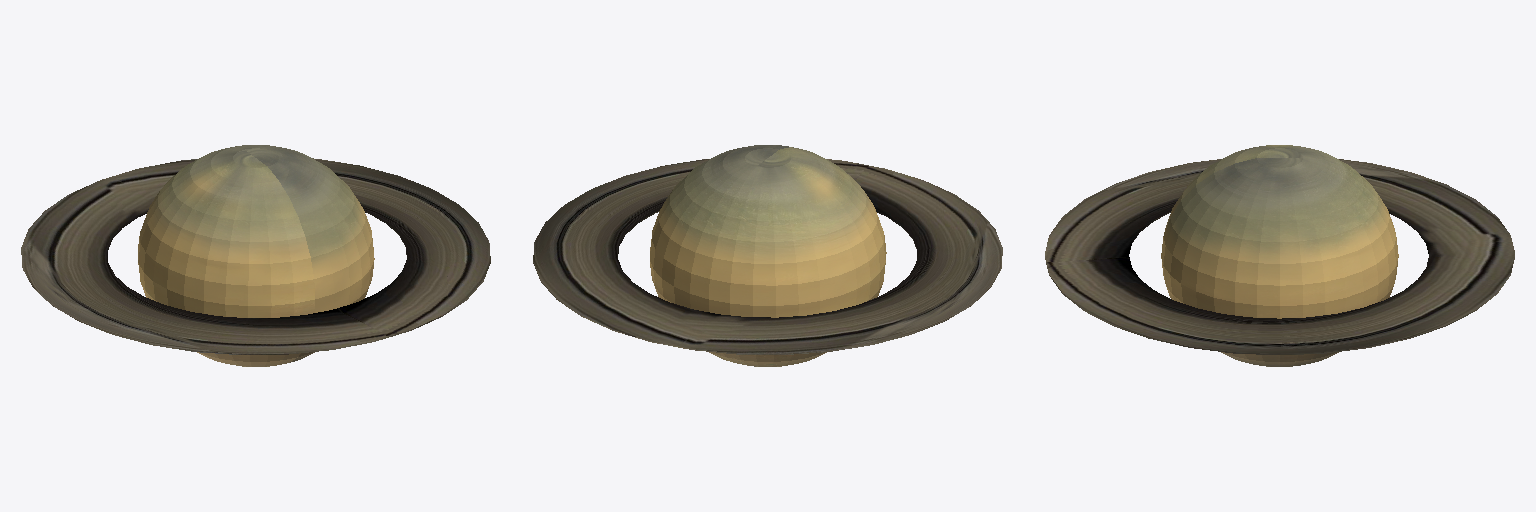
The picture shows the model from 3 angles: view 1: azimuth 30°, elevation 25°; view 2: azimuth 150°, elevation 25°; view 3: azimuth 270°, elevation 25°; orthographic projection.
Parts seen in each view (by area): view 1: Circle, Sphere_Sphere.001; view 2: Circle, Sphere_Sphere.001; view 3: Circle, Sphere_Sphere.001.
Boxes of the visible parts, x1=… form: Circle: x1=21, y1=158, x2=490, y2=354; Sphere_Sphere.001: x1=138, y1=145, x2=374, y2=366; Circle: x1=533, y1=159, x2=1002, y2=354; Sphere_Sphere.001: x1=650, y1=145, x2=886, y2=366; Circle: x1=1045, y1=159, x2=1514, y2=354; Sphere_Sphere.001: x1=1161, y1=145, x2=1398, y2=366.
Bounding box in the file's own units: 3.96 × 1.82 × 3.96.
2 materials, 2 textured.